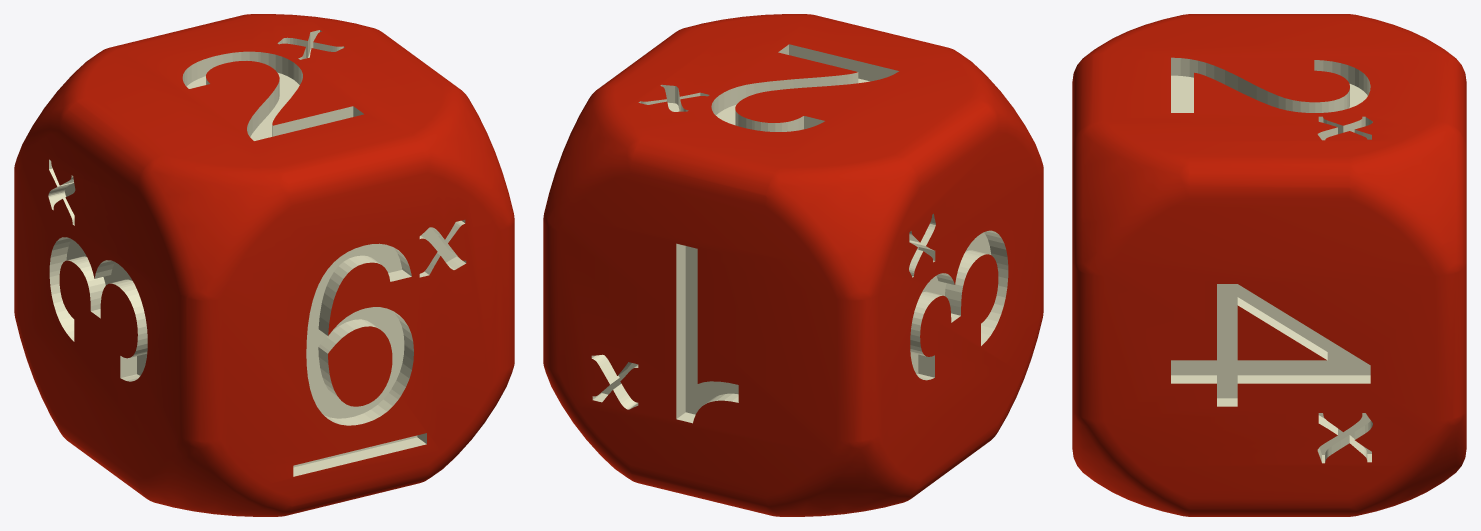
The model's file is Die X Dimension Red.glb.
3 renders of one model, left to right at view 1: azimuth 30°, elevation 25°; view 2: azimuth 150°, elevation 25°; view 3: azimuth 270°, elevation 25°, orthographic. The views are drawn at different scales.
Parts seen in each view (by area): view 1: Die_Body; view 2: Die_Body; view 3: Die_Body.
Part boxes in pixels (x1,y1,x2,y2): Die_Body: (14,14,514,516); Die_Body: (543,14,1043,516); Die_Body: (1072,14,1466,516).
Size of the model in its own units: 1 by 1 by 1.
